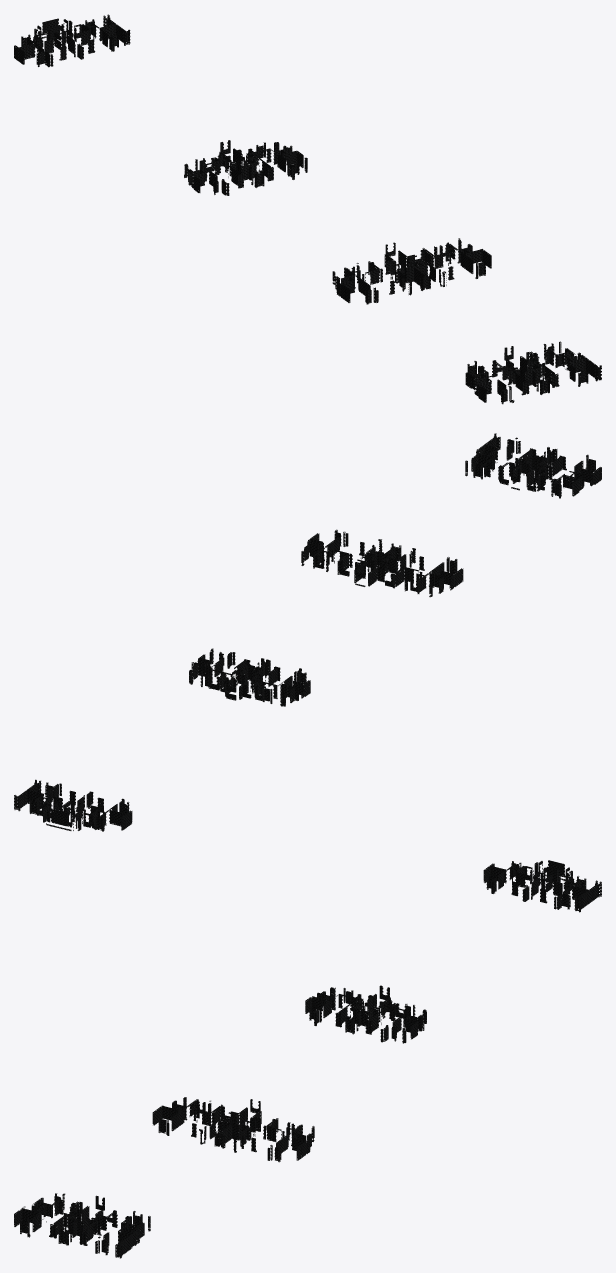
Rendered from edges.glb.
3 renders of one model, top to bottom at view 1: azimuth 30°, elevation 25°; view 2: azimuth 150°, elevation 25°; view 3: azimuth 330°, elevation 25°, orthographic.
Parts seen in each view (by area): view 1: E_F02; view 2: E_F02; view 3: E_F02.
Boxes of the visible parts, <box> form: E_F02: <box>14,14,601,404</box>; E_F02: <box>14,433,601,831</box>; E_F02: <box>14,861,601,1258</box>.
Size of the model in its own units: 28.4 by 3.94 by 169.
1 material, 1 textured.
